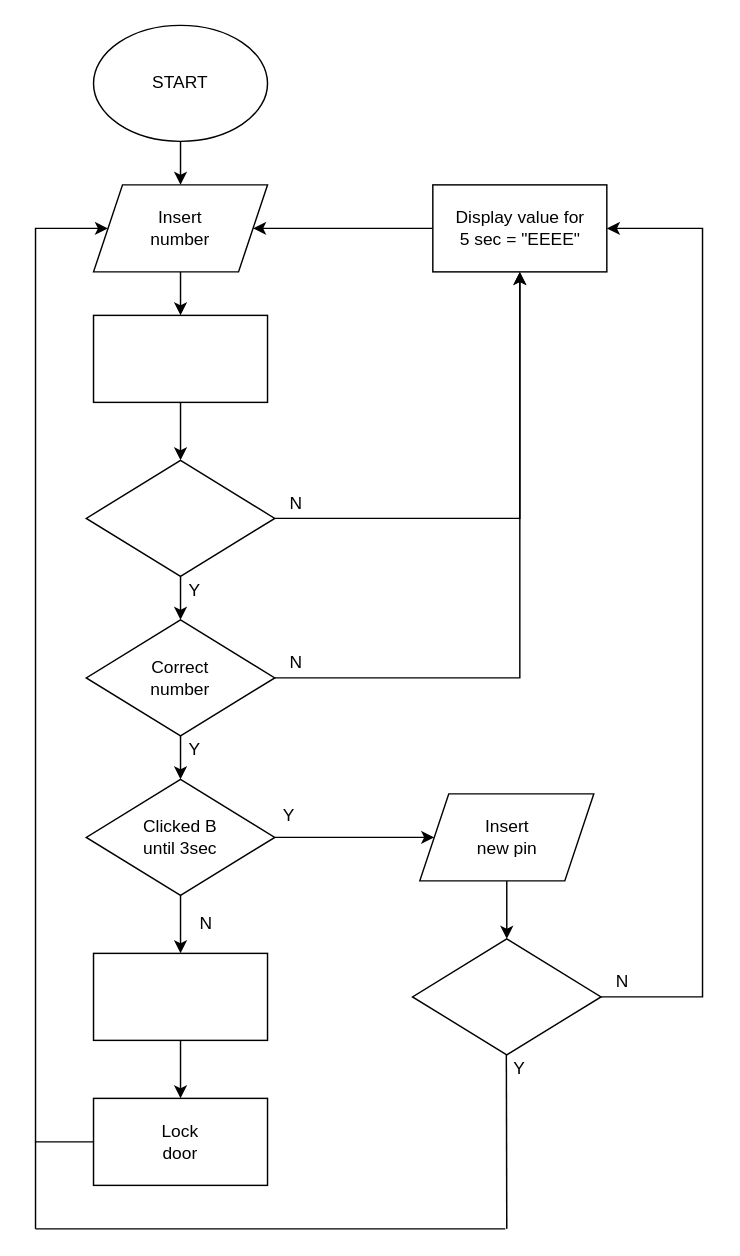
Some shapes in this 740 by 1256 pixel diagram are drawn without their labels. Each missing label, with the box of its shape:
Display number: (92, 314, 268, 402)
Hold open door for 5s: (92, 952, 268, 1040)
T <= 5s & clicked A: (85, 459, 275, 576)
T <= 5s & clicked B: (411, 937, 601, 1055)
